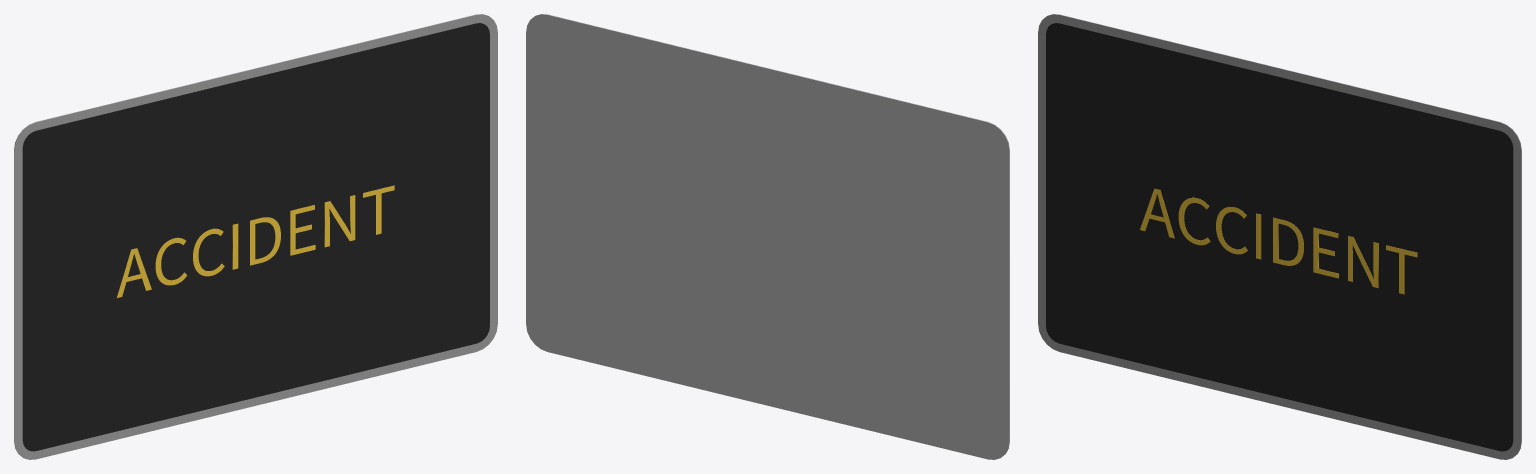
Rendered from XAK22.glb.
3 renders of one model, left to right at view 1: azimuth 30°, elevation 25°; view 2: azimuth 150°, elevation 25°; view 3: azimuth 330°, elevation 25°, orthographic.
Parts seen in each view (by area): view 1: XAK22_r01, XAK22_r00, XAK22_txt02, XAK22_dos; view 2: XAK22_dos, XAK22_r00; view 3: XAK22_r01, XAK22_r00, XAK22_txt02, XAK22_dos.
Part boxes in pixels (box(x1,y1,x2,y2)): XAK22_r01: box(22, 23, 489, 451); XAK22_r00: box(14, 14, 497, 459); XAK22_txt02: box(117, 185, 394, 297); XAK22_dos: box(14, 14, 487, 452); XAK22_dos: box(526, 14, 1009, 459); XAK22_r00: box(542, 14, 1009, 448); XAK22_r01: box(1046, 23, 1513, 451); XAK22_r00: box(1038, 14, 1521, 459); XAK22_txt02: box(1140, 188, 1417, 294); XAK22_dos: box(1048, 14, 1521, 452).
Size of the model in its own units: 0.9 by 0.6 by 0.0025.
